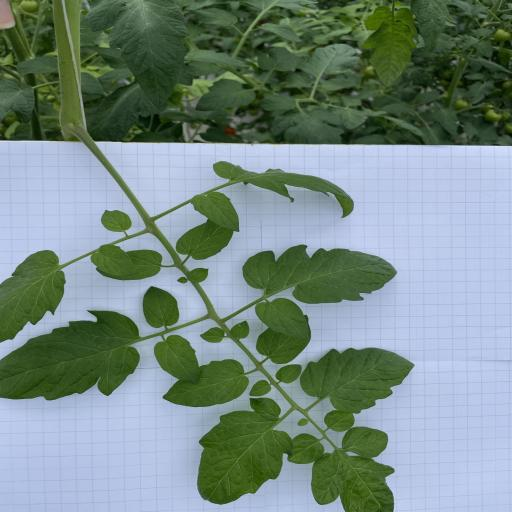Healthy: (0, 309, 140, 401), (84, 0, 190, 110), (195, 397, 293, 505), (211, 155, 357, 220), (240, 244, 398, 304), (308, 425, 408, 512), (300, 348, 418, 414), (0, 248, 69, 344), (84, 78, 168, 142), (359, 4, 419, 88), (161, 358, 248, 408), (256, 314, 312, 364), (174, 217, 236, 260), (152, 334, 203, 384), (296, 42, 360, 80), (255, 297, 310, 341), (94, 249, 164, 281), (409, 0, 450, 54), (194, 78, 257, 112), (190, 191, 240, 232), (142, 284, 180, 330), (91, 244, 136, 278), (185, 47, 251, 68), (256, 46, 302, 73), (287, 432, 325, 464), (256, 20, 302, 42), (193, 8, 240, 29), (18, 54, 58, 74), (324, 408, 356, 432), (101, 209, 132, 233), (276, 363, 303, 383), (340, 108, 364, 130), (250, 378, 272, 398), (200, 327, 226, 343), (229, 320, 250, 339), (188, 266, 210, 284)
